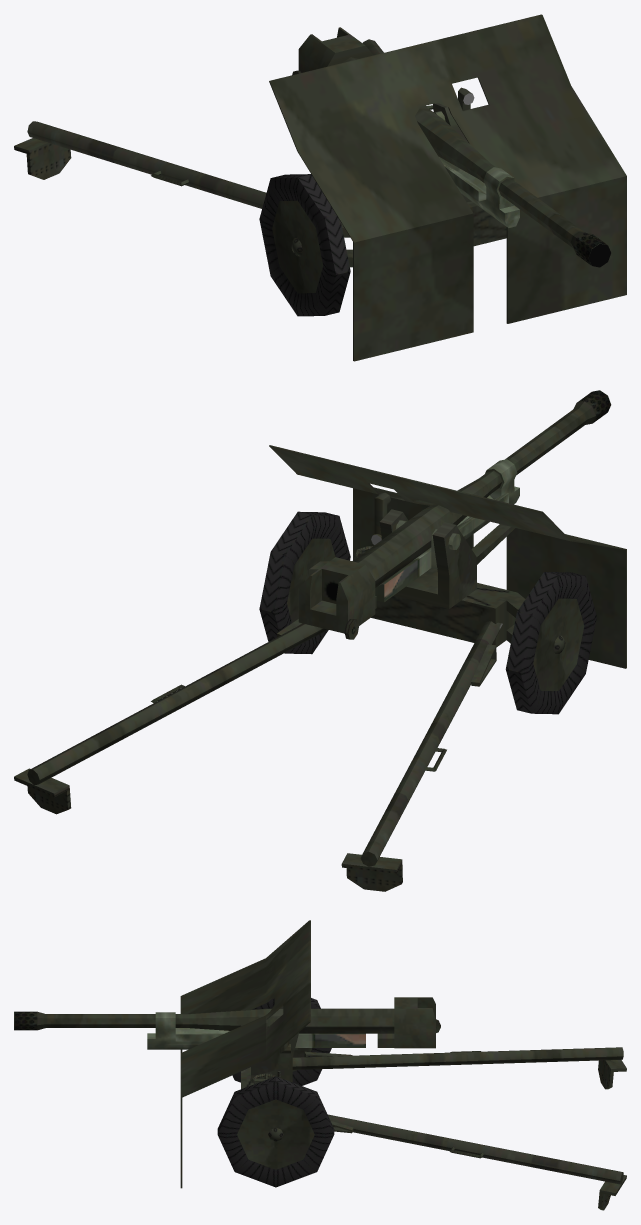
File: SWEPvKanM43.dae
The picture shows the model from 3 angles, top to bottom: view 1: azimuth 30°, elevation 25°; view 2: azimuth 150°, elevation 25°; view 3: azimuth 270°, elevation 25°; orthographic projection. The views are drawn at different scales.
Parts seen in each view (by area): view 1: turret, wheels, barrel, trail2, sleeve, carriage; view 2: turret, wheels, barrel, trail1, trail2, carriage, sleeve; view 3: turret, wheels, barrel, trail2, trail1, sleeve.
Part boxes in pixels (x1,y1,x2,y2): turret: [269, 14, 626, 361]; wheels: [259, 174, 350, 316]; barrel: [292, 27, 610, 267]; trail2: [14, 121, 266, 208]; sleeve: [434, 111, 519, 227]; carriage: [341, 201, 506, 267]; turret: [269, 445, 626, 668]; wheels: [259, 511, 596, 714]; barrel: [298, 390, 611, 639]; trail1: [14, 619, 327, 814]; trail2: [341, 621, 502, 891]; carriage: [309, 546, 525, 647]; sleeve: [375, 459, 519, 602]; turret: [180, 920, 310, 1188]; wheels: [217, 998, 334, 1187]; barrel: [14, 997, 440, 1048]; trail2: [292, 1047, 626, 1089]; trail1: [327, 1114, 626, 1210]; sleeve: [147, 1012, 365, 1049].
Size of the model in its own units: 17.06 by 31.03 by 9.8.
